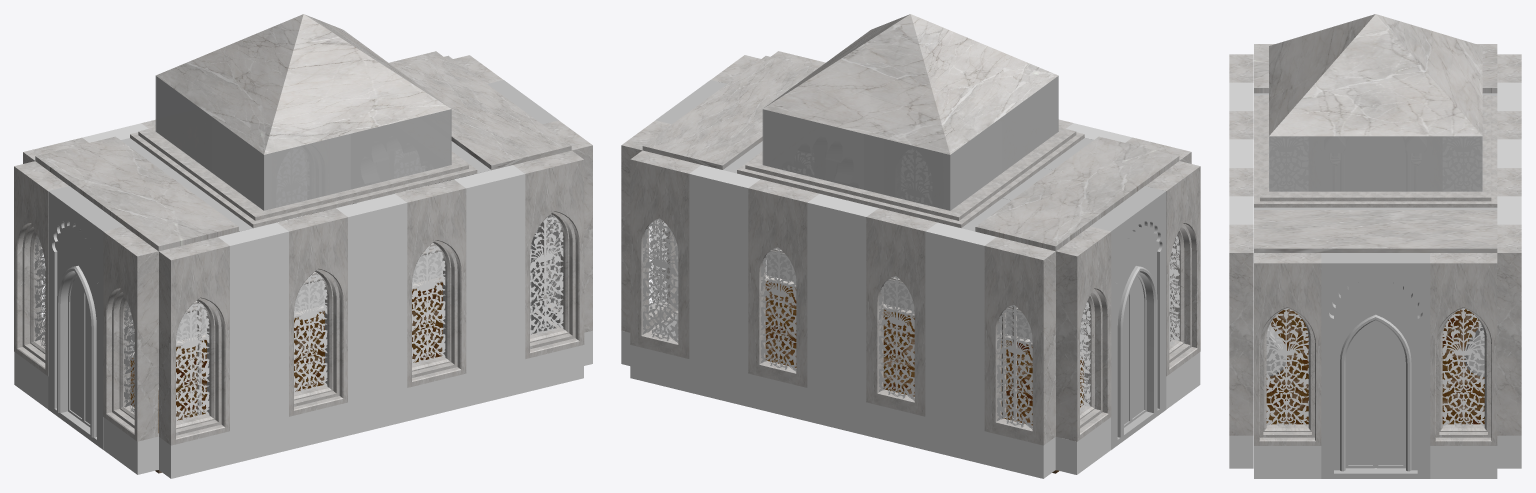
Rendered from thinkimgonnadieinthishouse (1).fbx.
The picture shows the model from 3 angles, left to right: view 1: azimuth 30°, elevation 25°; view 2: azimuth 150°, elevation 25°; view 3: azimuth 270°, elevation 25°; orthographic projection.
Parts seen in each view (by area): view 1: Cube, Cube.001, Group_38.001, Group_38.002, Group_38.003, Group_12, Component_12_9.005, Polygon, Component_12_9.004, Component_12_9.002, Component_12_9.003, Group_11 (+26 smaller); view 2: Cube, Cube.001, Group_38.004, Group_38.005, Group_38.006, Group_12, Component_12_9.010, Polygon, Component_12_9.006, Group_11, Component_12_9.008, Component_12_9.007 (+27 smaller); view 3: Cube, Polygon.001, Cube.001, Group_11, Component_12_9.011, Component_12_9.012, Component_12_9.003, Component_12_9.009, Group_59, Group_4, Group_6.001, Group_7.001 (+21 smaller).
Boxes of the visible parts, x1,y1,x2,y2 form: Cube: [156, 14, 450, 154]; Cube.001: [155, 76, 451, 210]; Group_38.001: [454, 165, 525, 373]; Group_38.002: [336, 194, 407, 402]; Group_38.003: [218, 222, 288, 431]; Group_12: [35, 136, 238, 253]; Component_12_9.005: [103, 226, 158, 441]; Polygon: [48, 186, 123, 449]; Component_12_9.004: [159, 237, 229, 445]; Component_12_9.002: [395, 179, 466, 387]; Component_12_9.003: [513, 150, 584, 358]; Group_11: [396, 55, 571, 169]; Cube: [763, 14, 1058, 154]; Cube.001: [762, 76, 1058, 210]; Group_38.004: [689, 165, 759, 373]; Group_38.005: [807, 193, 878, 402]; Group_38.006: [925, 222, 995, 430]; Group_12: [975, 136, 1179, 251]; Component_12_9.010: [984, 237, 1055, 445]; Polygon: [1090, 186, 1166, 449]; Component_12_9.006: [1056, 226, 1111, 441]; Group_11: [642, 56, 817, 169]; Component_12_9.008: [748, 179, 818, 387]; Component_12_9.007: [866, 208, 937, 416]; Cube: [1269, 14, 1482, 136]; Polygon.001: [1321, 253, 1430, 478]; Cube.001: [1269, 136, 1482, 191]; Group_11: [1254, 210, 1497, 252]; Component_12_9.011: [1254, 253, 1321, 445]; Component_12_9.012: [1430, 253, 1497, 445]; Component_12_9.003: [1229, 224, 1253, 435]; Component_12_9.009: [1497, 224, 1521, 435]; Group_59: [1266, 309, 1484, 424]; Group_4: [1260, 95, 1491, 201]; Group_6.001: [1375, 320, 1405, 468]; Group_7.001: [1345, 320, 1375, 468].
Bounding box in the file's own units: 1550 × 1179 × 869.
